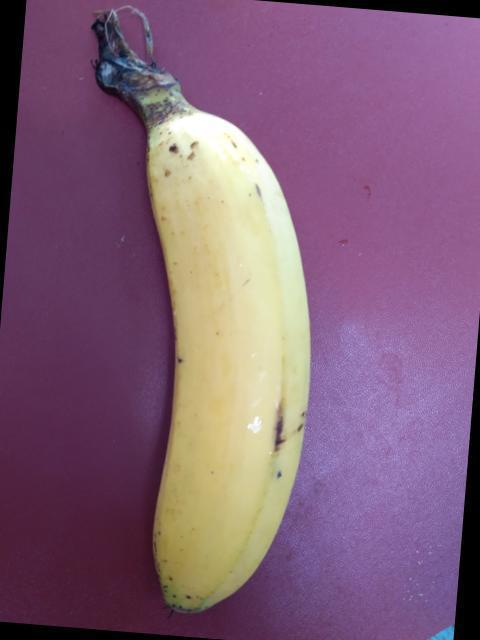freshripe: (105, 109, 344, 639)
